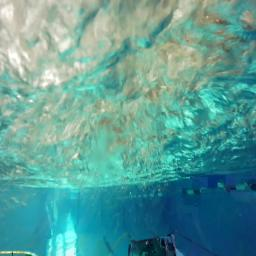front: (126, 232, 178, 256)
